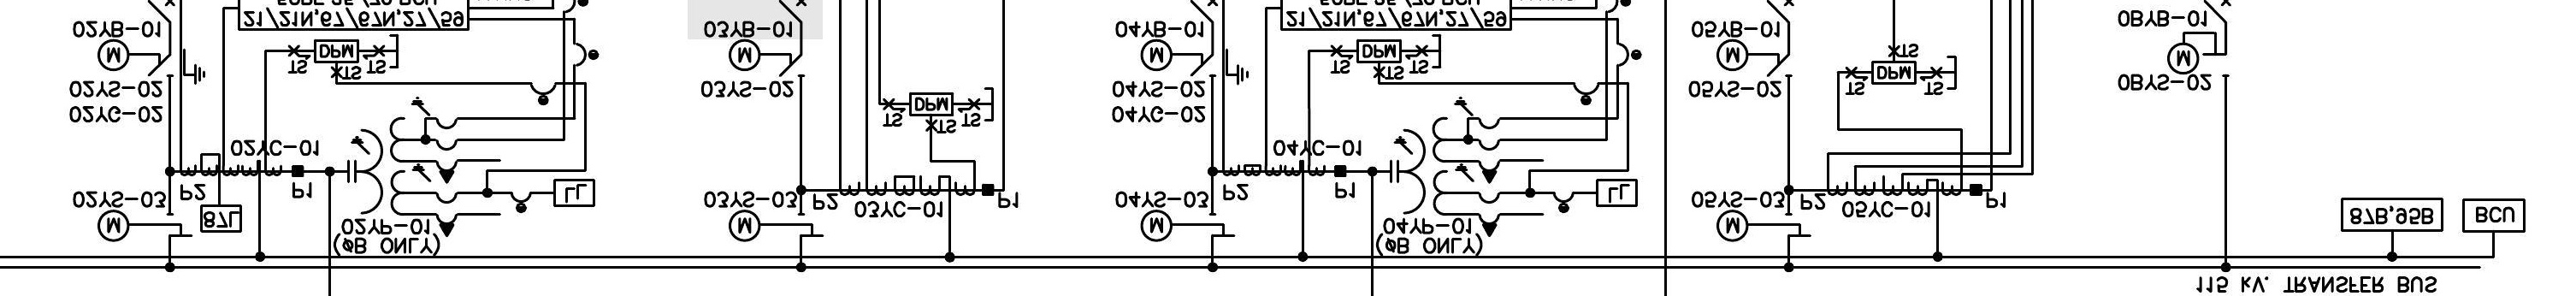115_1way_ds_w_motor: (728, 38, 838, 86), (97, 209, 194, 243), (728, 209, 825, 243), (1138, 209, 1235, 243), (1715, 209, 1812, 243), (1715, 38, 1794, 77), (2167, 31, 2229, 77)
115_3ways_ds_w_motor: (97, 38, 207, 86), (1140, 38, 1249, 86)
115_cvt_1p: (347, 95, 460, 238), (1390, 97, 1502, 238)
BCU: (2461, 197, 2527, 234)
DPM: (314, 39, 360, 64), (908, 92, 954, 117), (1355, 39, 1401, 64), (1871, 61, 1917, 86)
LL: (552, 178, 596, 207), (1595, 178, 1638, 207)
